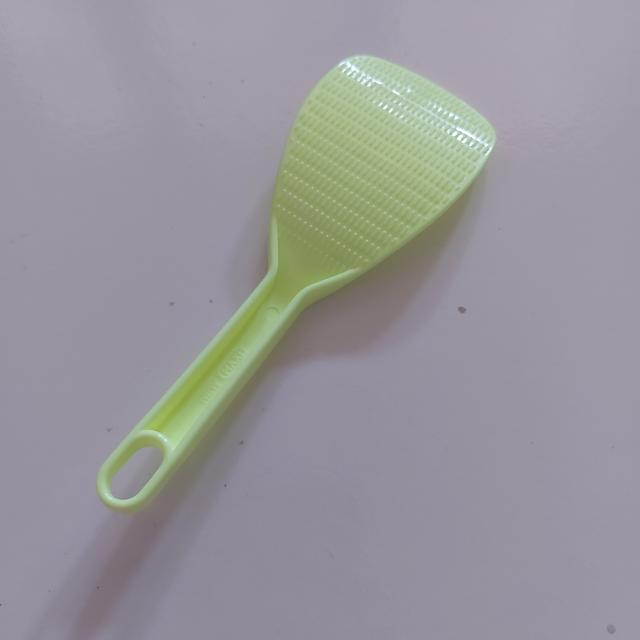Anorganik: (98, 58, 491, 514)
